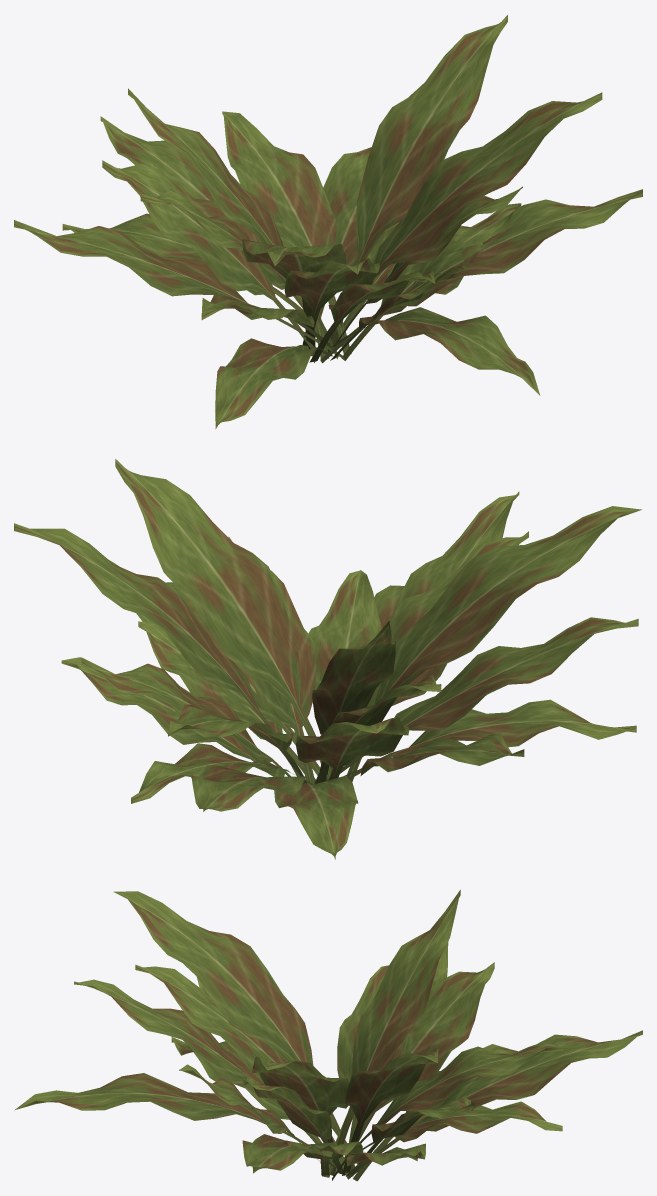
The model's file is crypt.glb.
3 renders of one model, top to bottom at view 1: azimuth 30°, elevation 25°; view 2: azimuth 150°, elevation 25°; view 3: azimuth 270°, elevation 25°, orthographic. The views are drawn at different scales.
Visible parts, largest first — view 1: SwayCrypt0, SwayCrypt1; view 2: SwayCrypt0, SwayCrypt1; view 3: SwayCrypt0, SwayCrypt1.
Boxes of the visible parts, <box> form: SwayCrypt0: <box>100,15,602,429</box>; SwayCrypt1: <box>14,111,642,395</box>; SwayCrypt0: <box>14,459,641,811</box>; SwayCrypt1: <box>81,531,638,859</box>; SwayCrypt0: <box>74,889,642,1179</box>; SwayCrypt1: <box>14,942,563,1181</box>.
Size of the model in its own units: 0.8285 by 0.3815 by 0.9654.
Materials: 1 (1 with a texture image).
